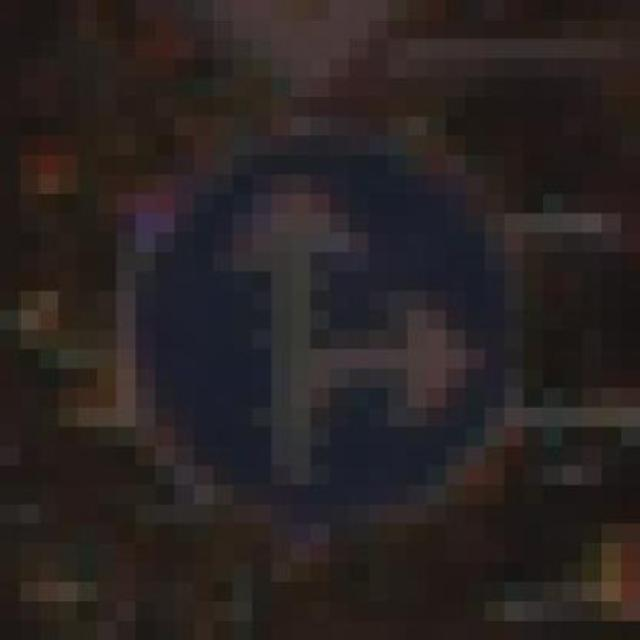Go Straight or Turn Right: (78, 116, 562, 562)
